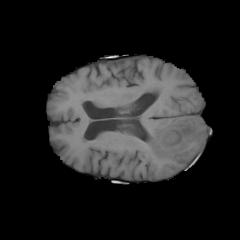glioma: (144, 120, 194, 160)
